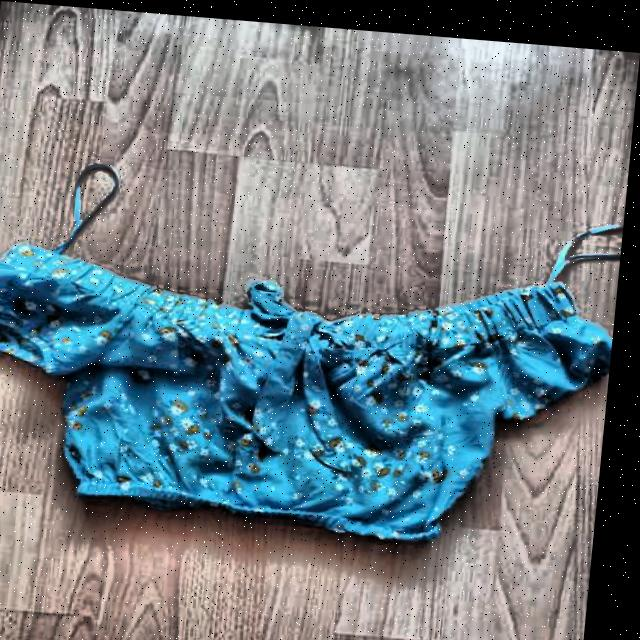clothes: (0, 166, 624, 559)
